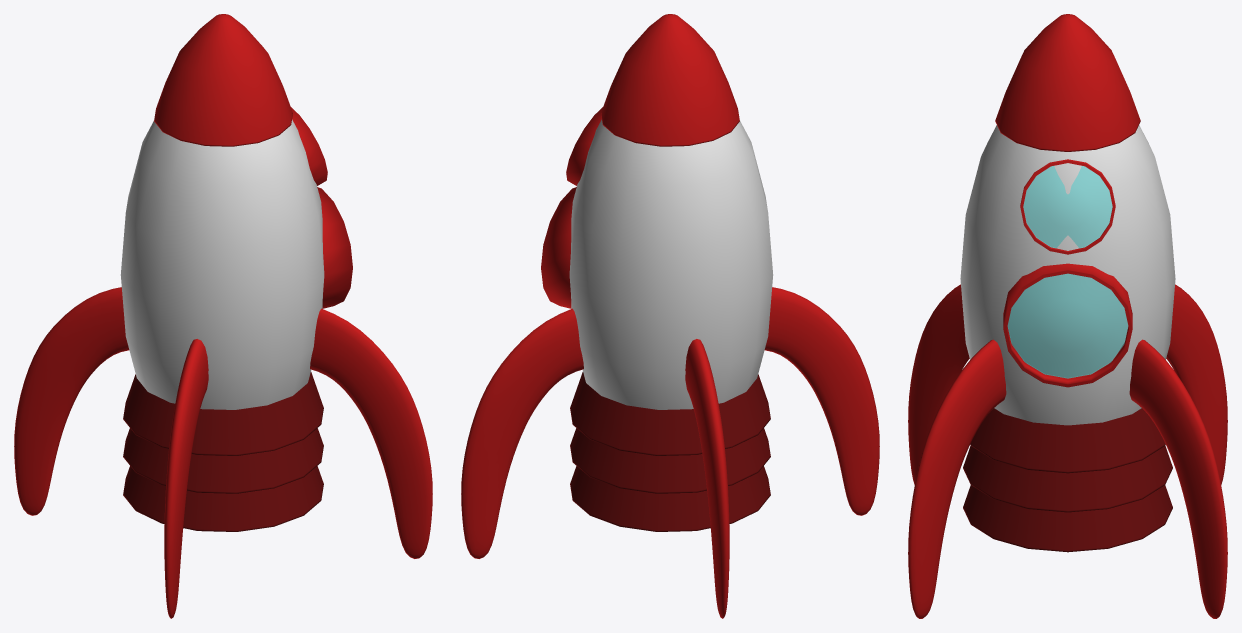
Rendered from Rocket.glb.
3 views of the same model, side by side, from view 1: azimuth 30°, elevation 25°; view 2: azimuth 150°, elevation 25°; view 3: azimuth 270°, elevation 25° (orthographic). The views are drawn at different scales.
Parts seen in each view (by area): view 1: Sphere, Cube.001, Cylinder, Cylinder.003, Cylinder.001, Cylinder.002; view 2: Sphere, Cube.001, Cylinder, Cylinder.003, Cylinder.001, Cylinder.002; view 3: Sphere, Cube.001, Cylinder, Cylinder.003, Cylinder.001, Cylinder.002.
Part boxes in pixels (x1,y1,x2,y2): Sphere: [120, 119, 324, 409]; Cube.001: [14, 287, 432, 618]; Cylinder: [123, 372, 323, 531]; Cylinder.003: [154, 14, 292, 146]; Cylinder.001: [317, 187, 352, 308]; Cylinder.002: [291, 107, 327, 185]; Sphere: [569, 119, 773, 409]; Cube.001: [461, 287, 879, 618]; Cylinder: [570, 372, 770, 531]; Cylinder.003: [601, 14, 739, 146]; Cylinder.001: [541, 187, 576, 308]; Cylinder.002: [566, 107, 602, 185]; Sphere: [960, 125, 1175, 425]; Cube.001: [908, 284, 1227, 618]; Cylinder: [963, 408, 1172, 552]; Cylinder.003: [995, 14, 1140, 151]; Cylinder.001: [1003, 263, 1132, 387]; Cylinder.002: [1020, 159, 1115, 254].
Bounding box in the file's own units: 2.44 × 4.56 × 2.44.
